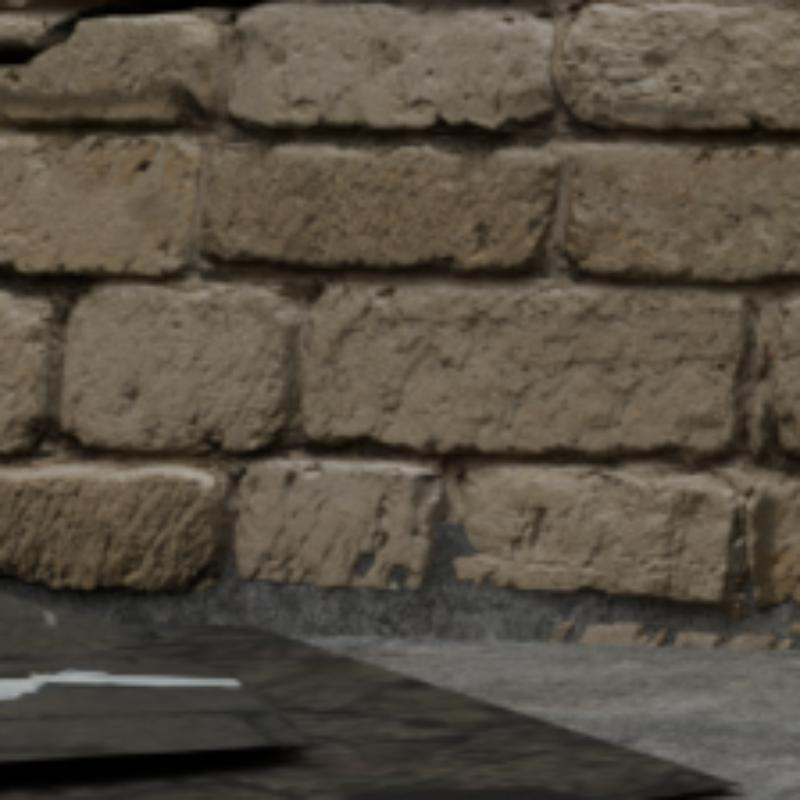pothole: (0, 0, 257, 64)
